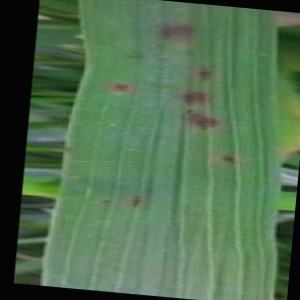Bacterial_Leaf_Blight: (142, 15, 199, 47), (174, 104, 222, 135), (168, 85, 211, 110), (191, 63, 223, 87), (214, 147, 241, 170), (108, 77, 135, 99), (126, 191, 147, 212), (99, 194, 114, 208)
